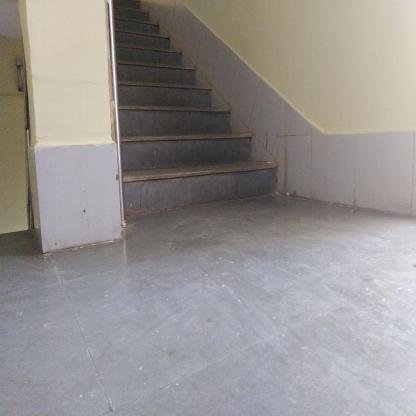stairs: (128, 46, 187, 216)
